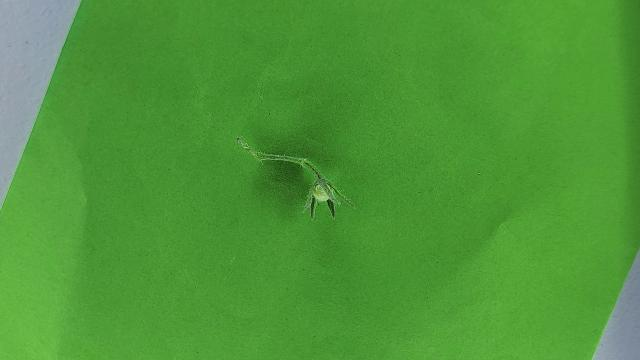Fruit Bud: (301, 170, 353, 223)
